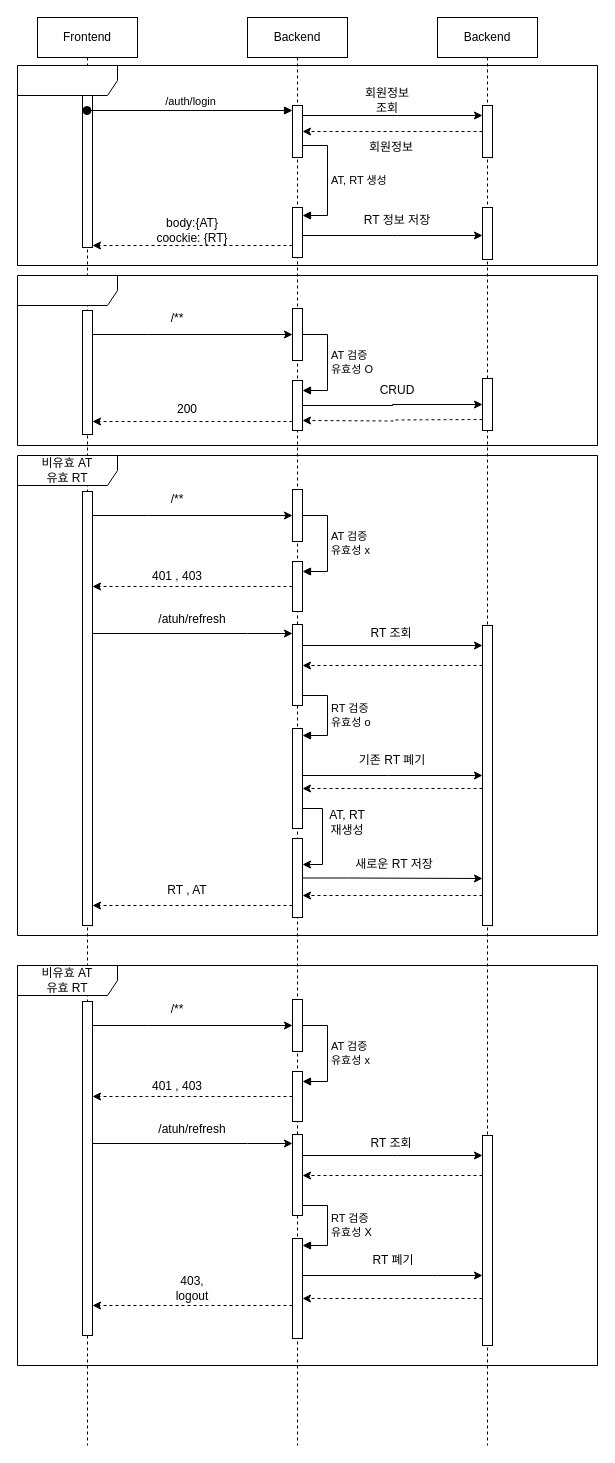
Some shapes in this 615 by 1463 pixel diagram are drawn without their labels. Here are the shapes that lost their labels. From the top down, the box of each, then its label:
(16, 64, 598, 266): login
(16, 274, 598, 446): 유효 AT
